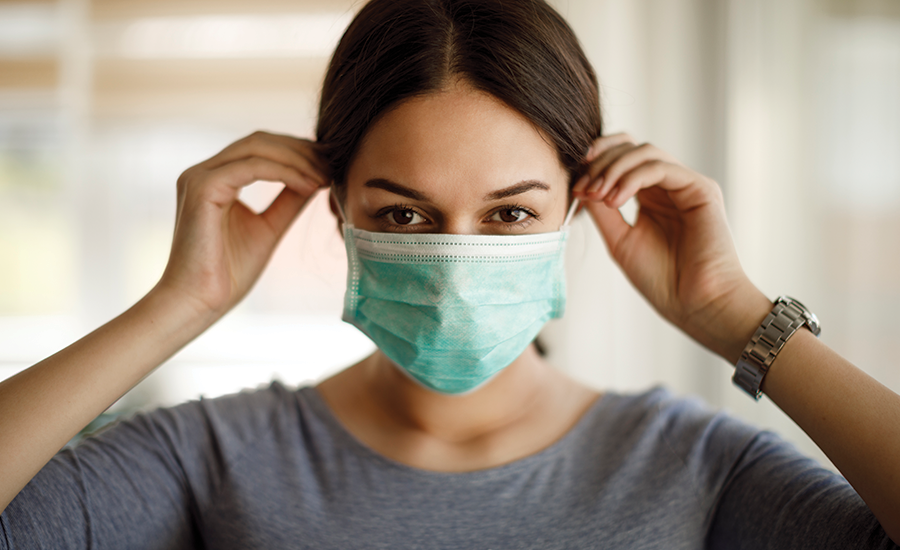mask: (327, 5, 586, 409)
